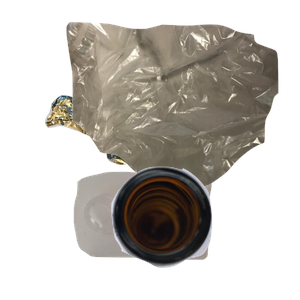glass: (109, 164, 300, 300)
metal: (42, 72, 239, 229)
plastic: (71, 169, 275, 300)
trash: (64, 20, 300, 200)
